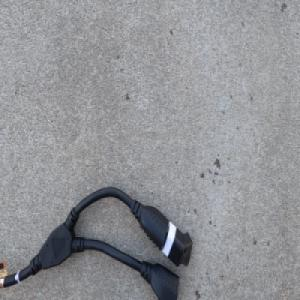Wire: (0, 186, 193, 300)
